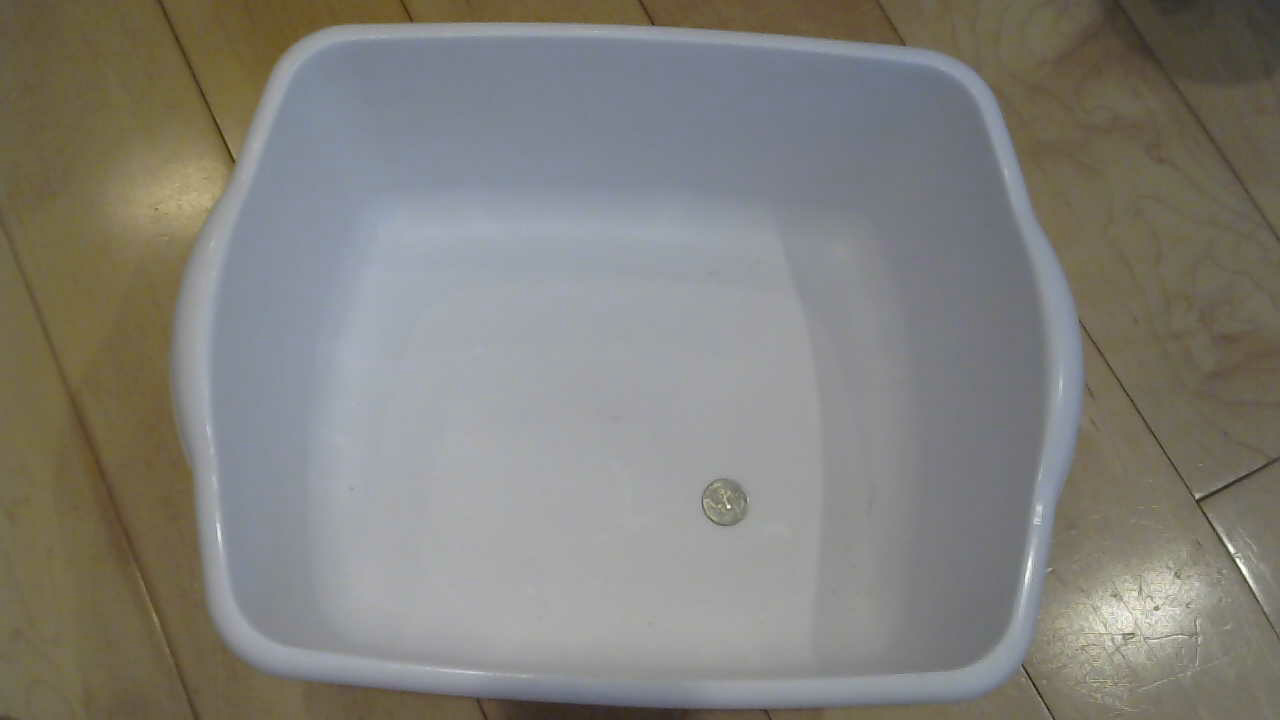coin: (697, 478, 762, 537)
